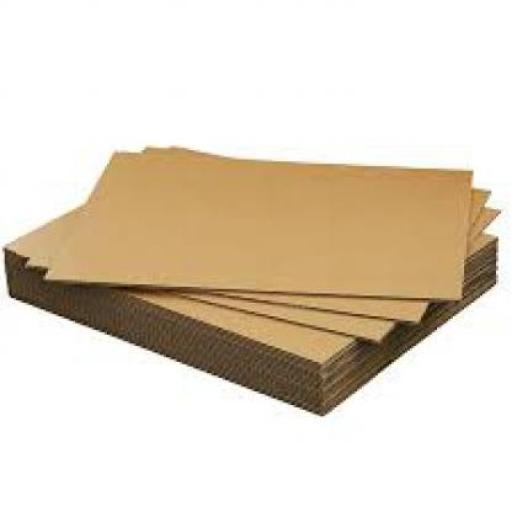cardboard: (0, 208, 496, 416), (20, 143, 490, 323), (0, 205, 498, 348), (40, 148, 472, 305)
